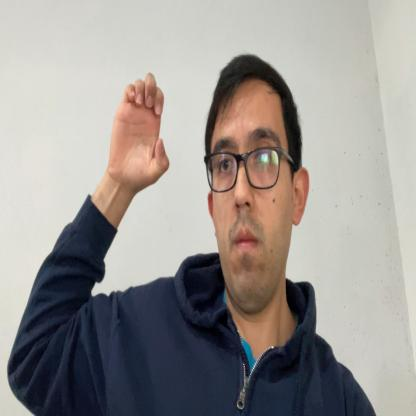E: (110, 72, 170, 196)
